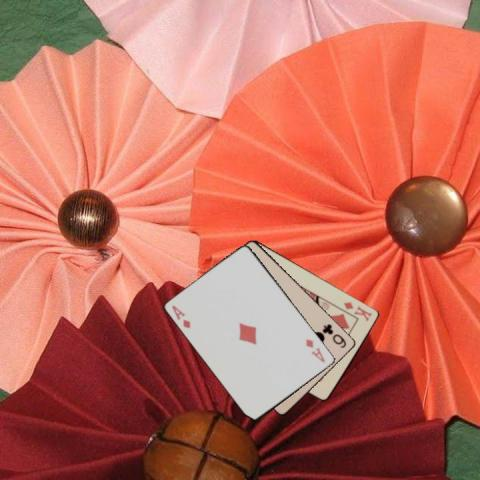6c: (319, 321, 348, 349)
Ad: (302, 336, 326, 364), (169, 302, 192, 330)
Kd: (341, 298, 373, 322)
